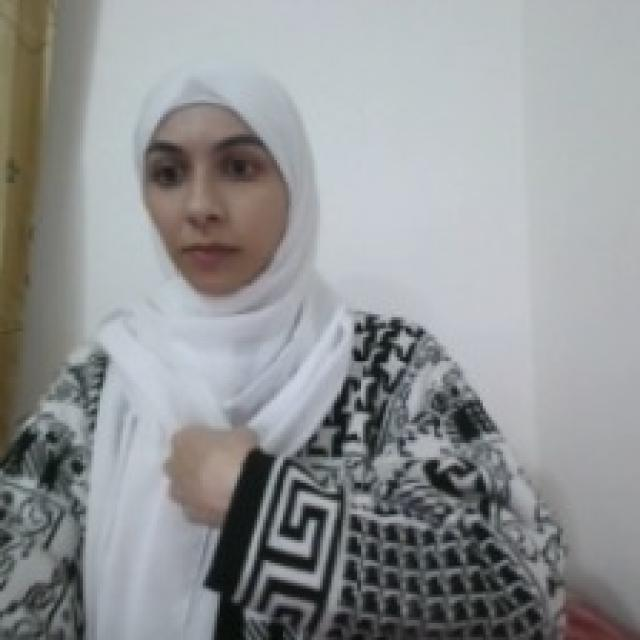me: (156, 418, 267, 533)
